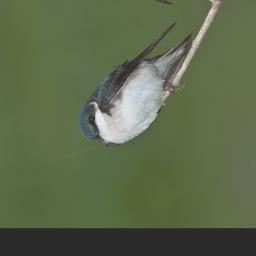Swallow: (59, 18, 213, 157)
